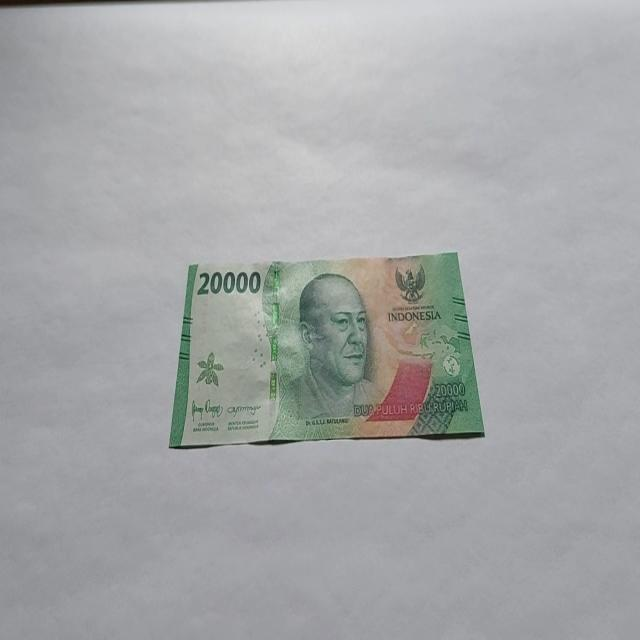dua puluh ribu rupiah: (168, 250, 486, 450)
